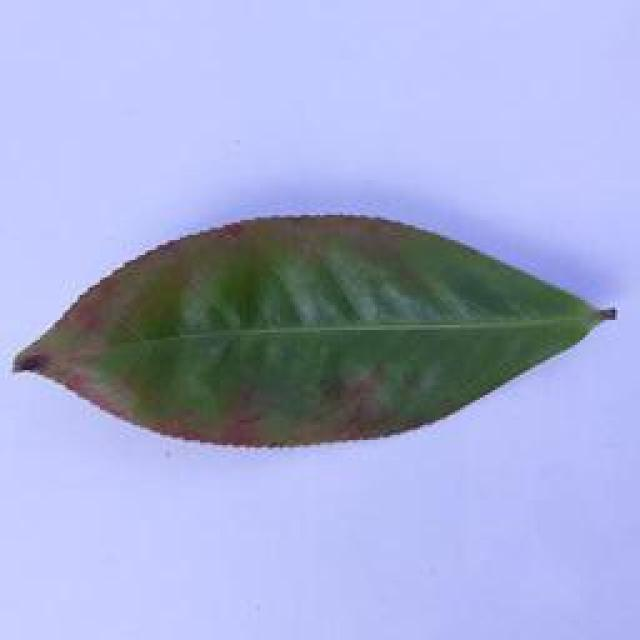Red Leaf Spot: (10, 208, 640, 448)
